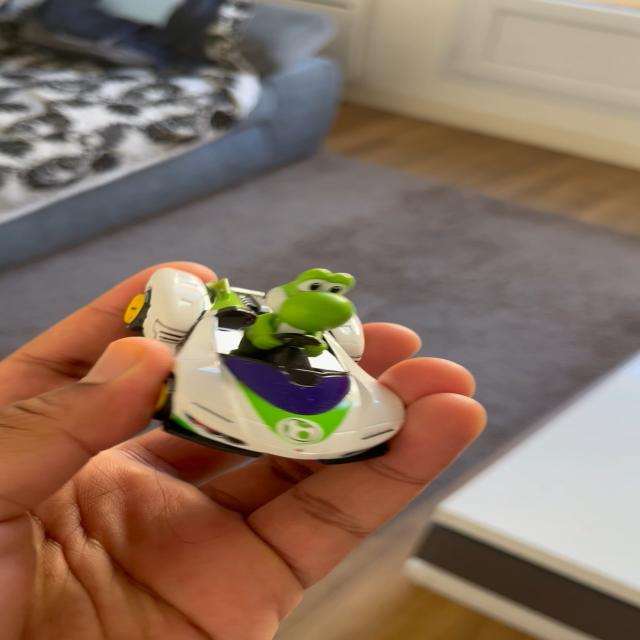yoshi: (108, 253, 424, 472)
